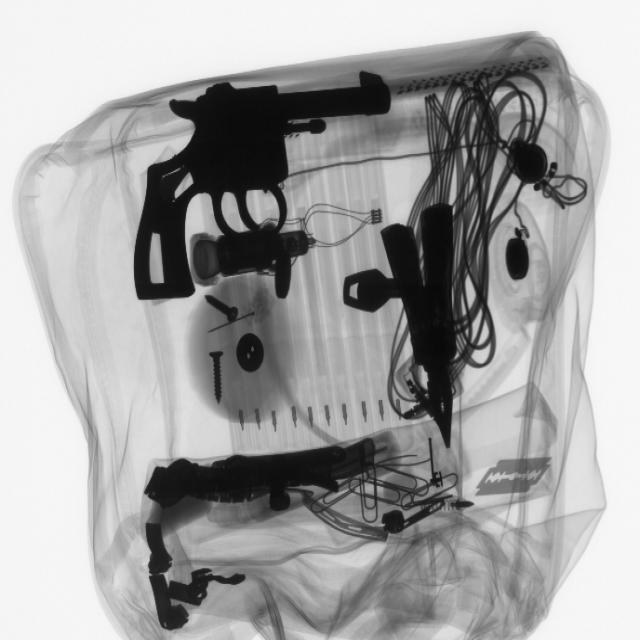BLADE: (472, 450, 559, 508)
GUN: (126, 76, 396, 306)
SCREW: (190, 345, 246, 415), (196, 285, 248, 340)
